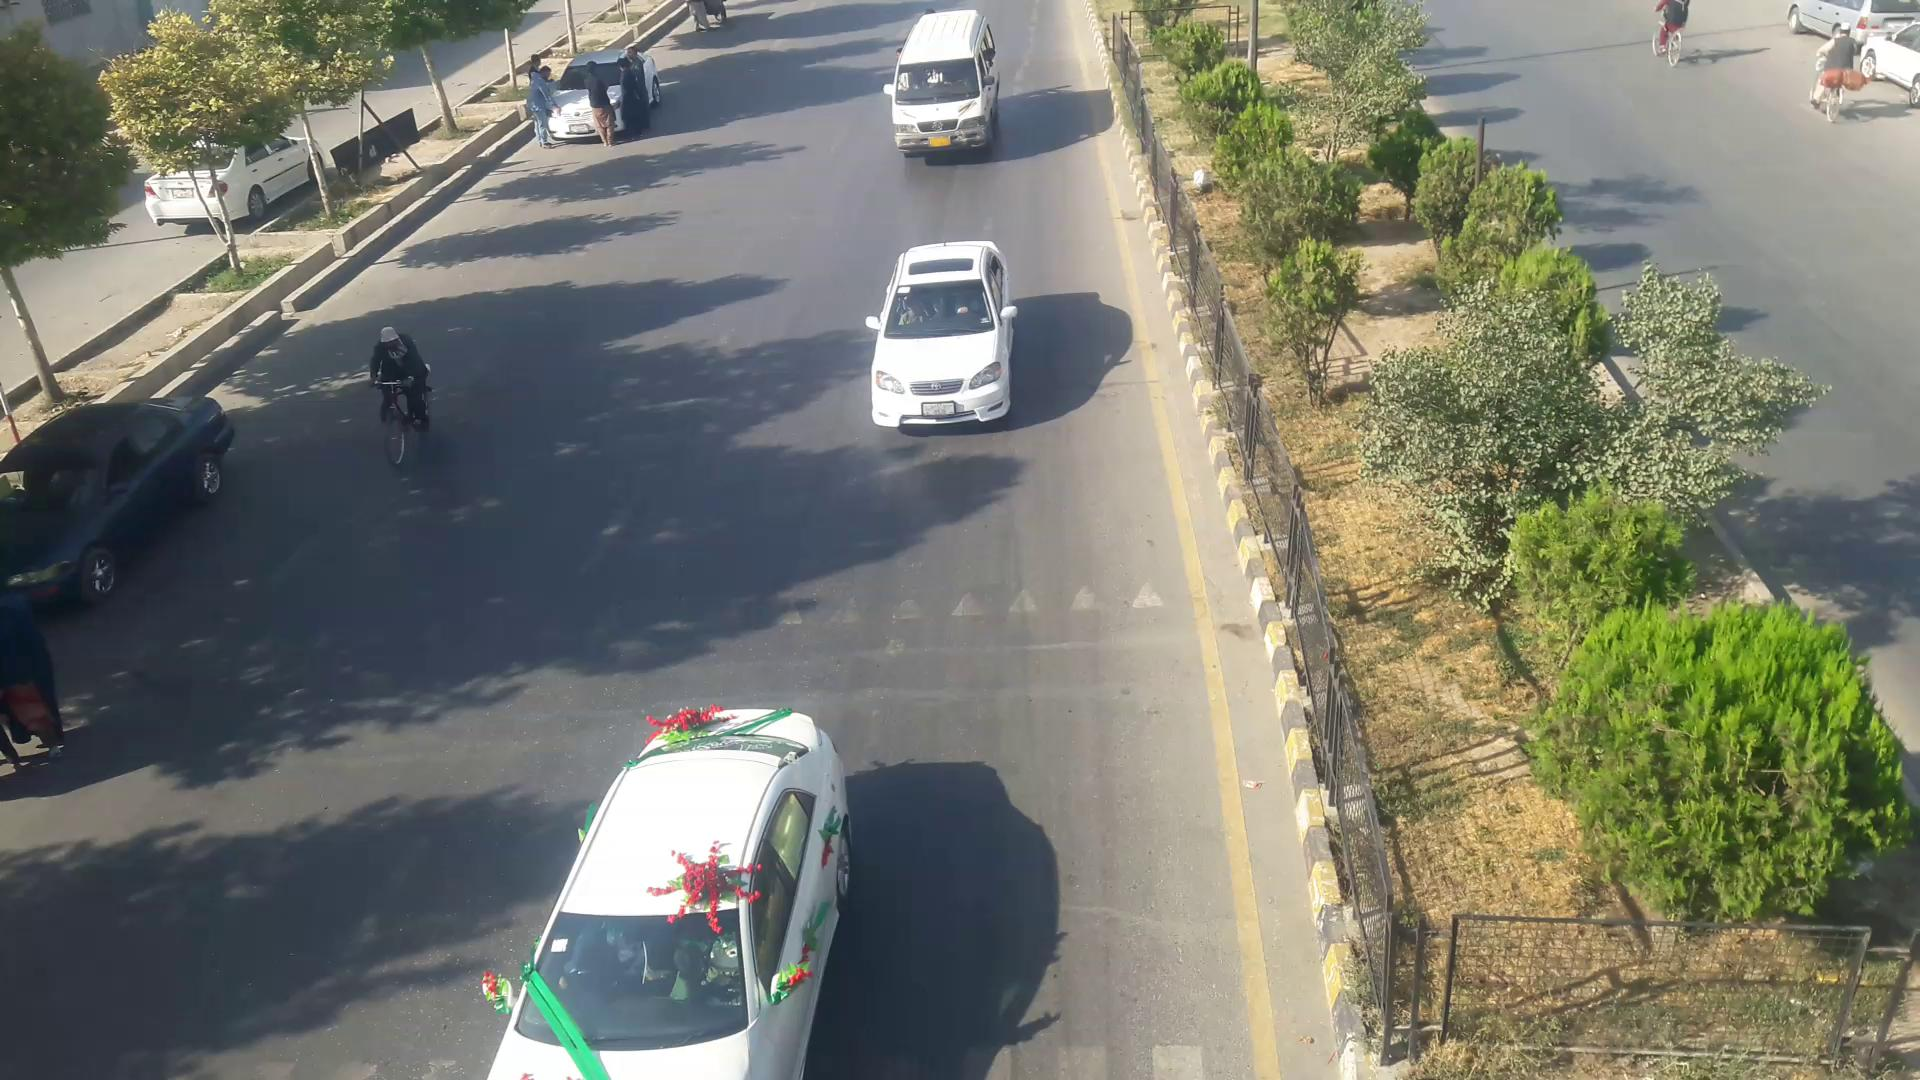bus: (886, 16, 992, 153)
car: (497, 703, 853, 1080), (4, 393, 247, 604), (864, 243, 1019, 431)
